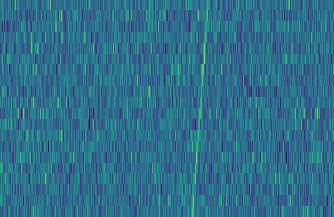signal: (187, 0, 213, 217)
